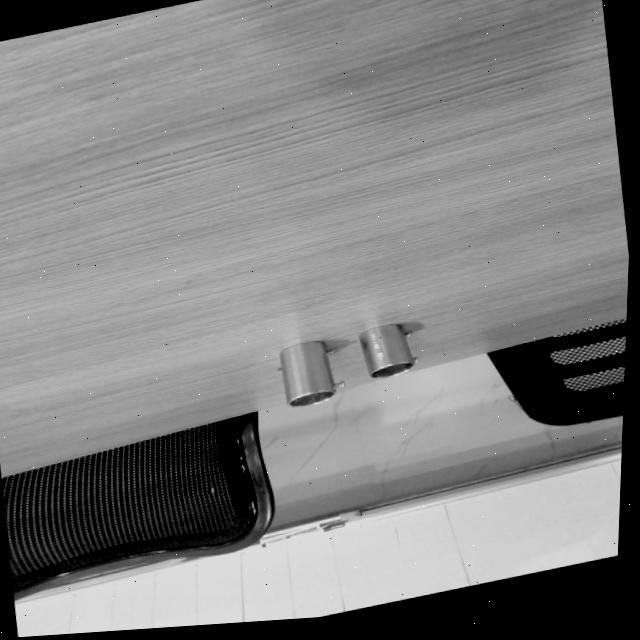Co_Lon: (278, 337, 348, 410)
Co_Nho: (357, 318, 425, 383)
